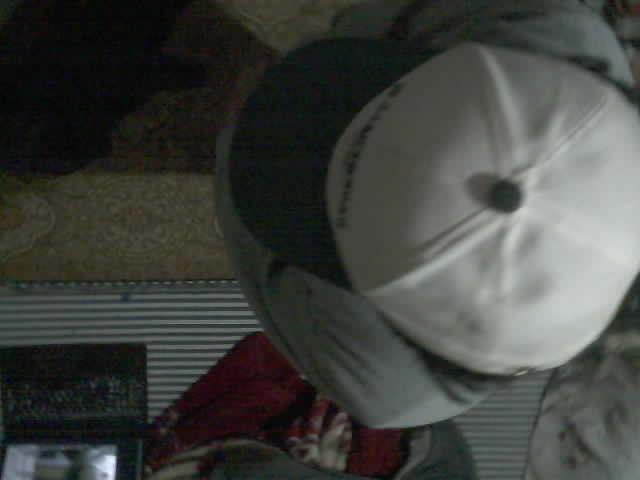cap: (218, 35, 639, 378)
